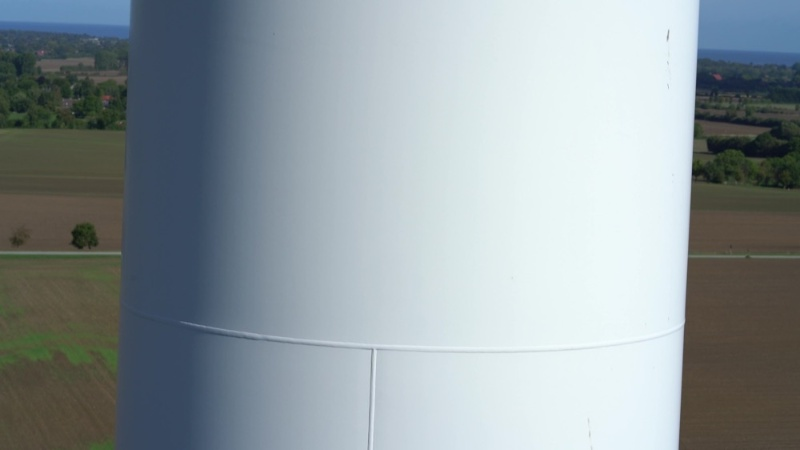weldseam: (117, 294, 683, 356), (362, 339, 384, 450)
